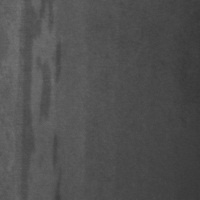inclusion: (15, 1, 38, 199), (35, 40, 64, 127), (47, 132, 64, 199), (34, 0, 55, 34)
